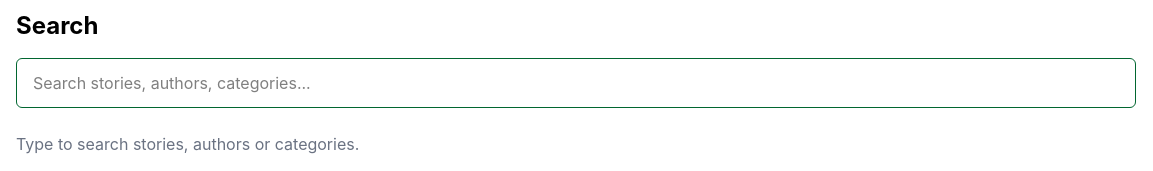
SearchPage › says when nothing matches
Type "zzzz" into the search field at (576, 83), box [16,58,1136,108]
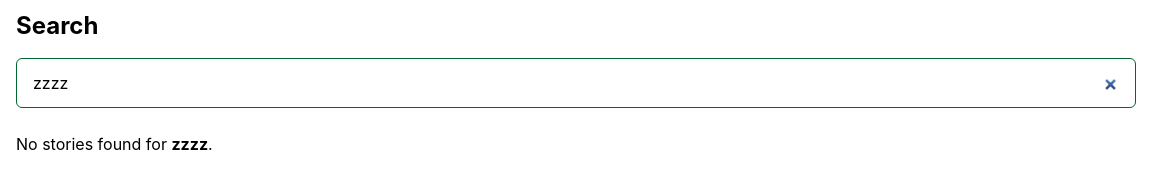
Now the text "No stories found for zzzz." is shown, box [16,134,213,154]
